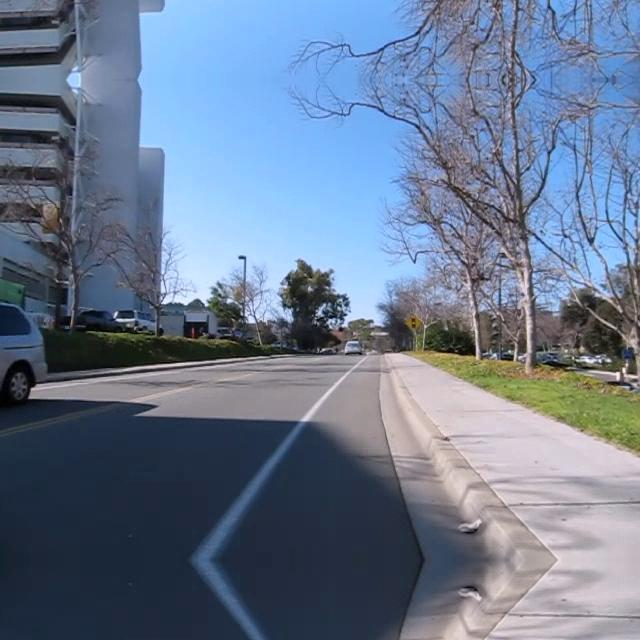signalAhead: (403, 313, 423, 333)
